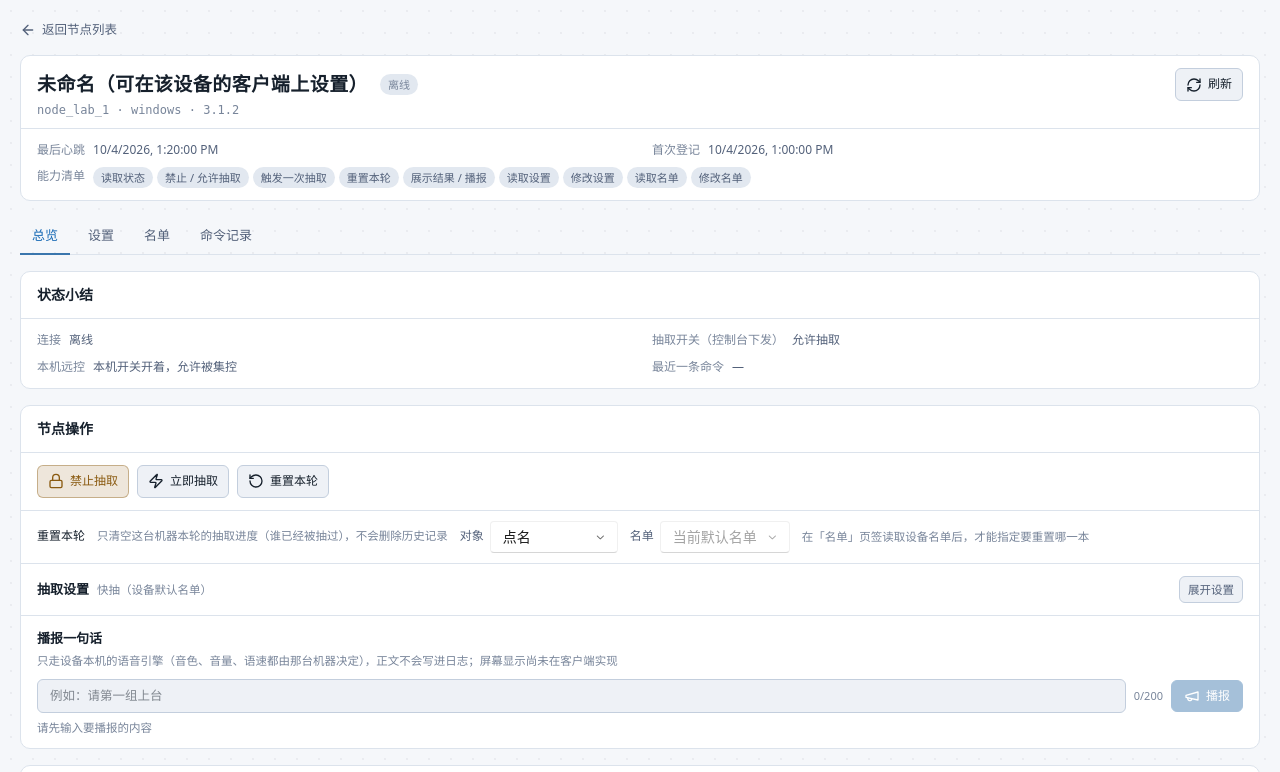
Test: NodeDetailView 页签 › 设备离线时页面照常可用：期望状态能下发，只是提示未投递
This screenshot has width=1280, height=772.
Expected: the text with test id "node-detail-presence" reads "离线", [388,77,410,92]
Step 1. Click the button with test id "node-detail-lock" → (83, 481), box [37,465,129,498]
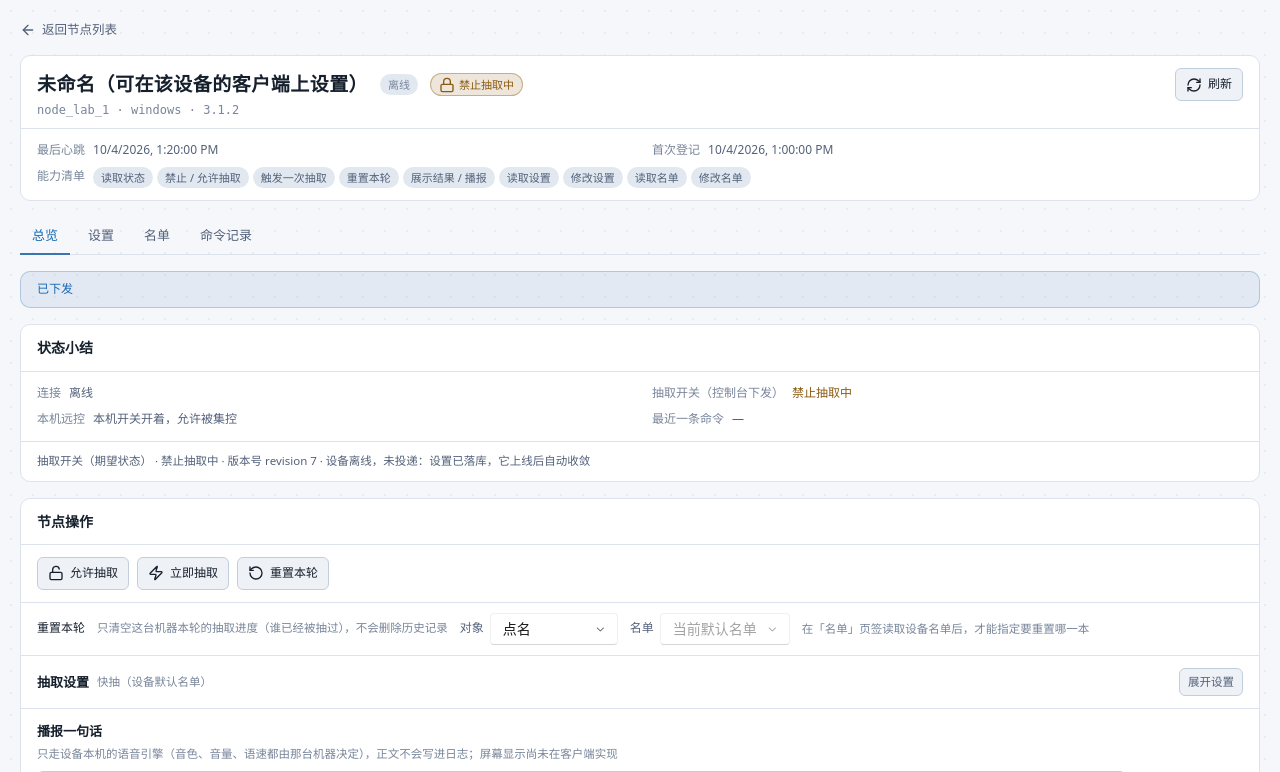
Now the text with test id "node-detail-desired" shows "设备离线，未投递", box [37,453,590,468]
